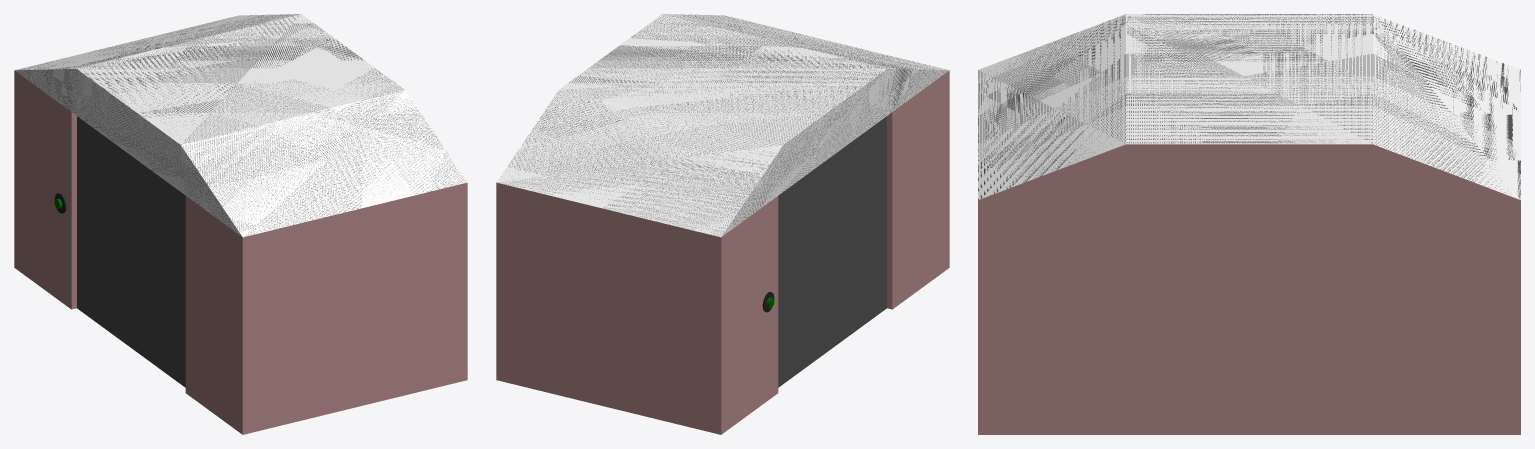
The model's file is elevator.dae.
3 renders of one model, left to right at view 1: azimuth 30°, elevation 25°; view 2: azimuth 150°, elevation 25°; view 3: azimuth 270°, elevation 25°, orthographic. The views are drawn at different scales.
Parts seen in each view (by area): view 1: elevator (×2); view 2: elevator (×2); view 3: elevator (×2).
Part boxes in pixels (box(x1,y1,x2,y2)): elevator (×2): box(14, 14, 467, 434); elevator (×2): box(496, 14, 949, 434); elevator (×2): box(978, 14, 1520, 434).
Size of the model in its own units: 100 by 173 by 102.
